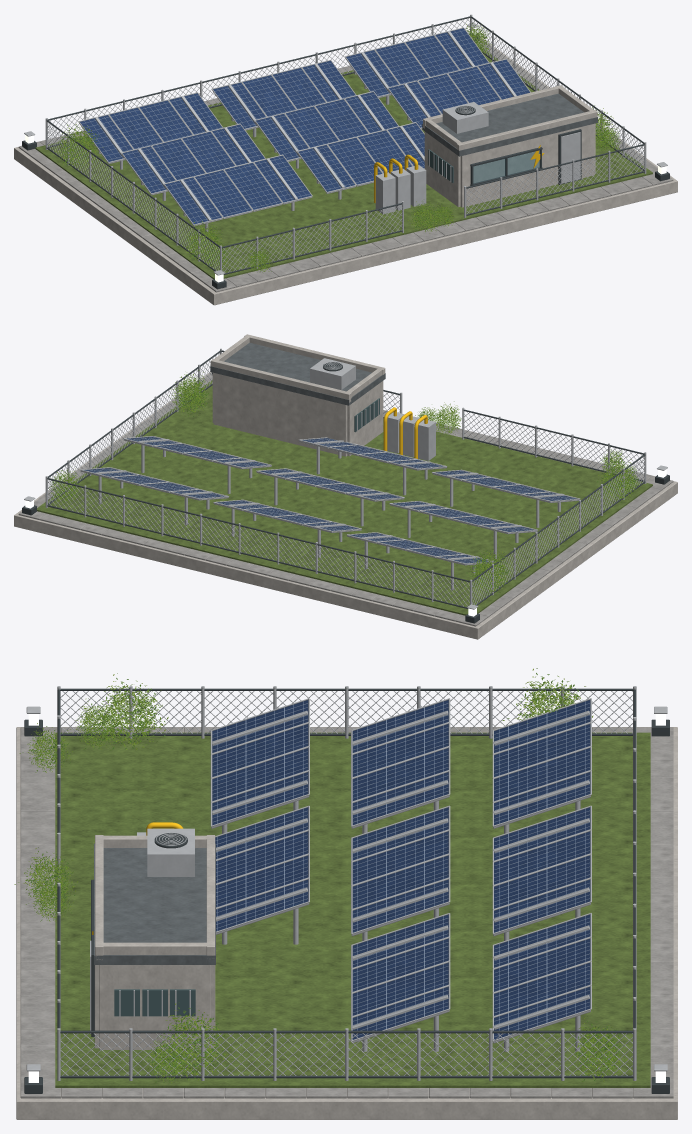
The model's file is planta_solar.fbx.
The picture shows the model from 3 angles, top to bottom: view 1: azimuth 30°, elevation 25°; view 2: azimuth 150°, elevation 25°; view 3: azimuth 270°, elevation 25°; orthographic projection. The views are drawn at different scales.
Visible parts, largest first — view 1: Campo fotovoltaico · Silicio monocristalino, Solar · Hierba de parcela, Cerramiento · Inox cepillado, Campo fotovoltaico · Contactos de plata, Solar · Prefabricado caliza, Inversores · Prefabricado caliza, Solar · Loseta mineral, Campo fotovoltaico · Inox cepillado, Inversores · Inox cepillado, Cerramiento · Perfilería antracita, Inversores · Membrana bituminosa, Inversores · Cristal de control (+5 smaller); view 2: Solar · Hierba de parcela, Cerramiento · Inox cepillado, Inversores · Prefabricado caliza, Solar · Prefabricado caliza, Campo fotovoltaico · Inox cepillado, Solar · Loseta mineral, Campo fotovoltaico · Contactos de plata, Campo fotovoltaico · Silicio monocristalino, Cerramiento · Perfilería antracita, Inversores · Membrana bituminosa, Inversores · Inox cepillado, Follaje.009 (+5 smaller); view 3: Solar · Hierba de parcela, Campo fotovoltaico · Silicio monocristalino, Solar · Loseta mineral, Campo fotovoltaico · Inox cepillado, Campo fotovoltaico · Contactos de plata, Solar · Prefabricado caliza, Cerramiento · Inox cepillado, Inversores · Prefabricado caliza, Inversores · Membrana bituminosa, Cerramiento · Perfilería antracita, Inversores · Inox cepillado, Follaje.001 (+11 smaller).
Part boxes in pixels (x1,y1,x2,y2): Campo fotovoltaico · Silicio monocristalino: (80, 28, 529, 224); Solar · Hierba de parcela: (35, 44, 652, 279); Cerramiento · Inox cepillado: (45, 14, 646, 273); Campo fotovoltaico · Contactos de plata: (82, 30, 527, 222); Solar · Prefabricado caliza: (14, 37, 677, 305); Inversores · Prefabricado caliza: (423, 85, 597, 207); Solar · Loseta mineral: (18, 38, 673, 292); Campo fotovoltaico · Inox cepillado: (78, 27, 530, 231); Inversores · Inox cepillado: (375, 102, 580, 214); Cerramiento · Perfilería antracita: (46, 16, 644, 274); Inversores · Membrana bituminosa: (422, 93, 597, 156); Inversores · Cristal de control: (473, 150, 539, 183); Solar · Hierba de parcela: (37, 380, 652, 615); Cerramiento · Inox cepillado: (45, 348, 646, 607); Inversores · Prefabricado caliza: (210, 334, 385, 456); Solar · Prefabricado caliza: (14, 372, 677, 639); Campo fotovoltaico · Inox cepillado: (80, 436, 580, 590); Solar · Loseta mineral: (18, 372, 673, 626); Campo fotovoltaico · Contactos de plata: (86, 436, 576, 563); Campo fotovoltaico · Silicio monocristalino: (84, 437, 575, 563); Cerramiento · Perfilería antracita: (47, 350, 645, 608); Inversores · Membrana bituminosa: (210, 342, 385, 405); Inversores · Inox cepillado: (310, 358, 435, 460); Follaje.009: (466, 545, 510, 595); Solar · Hierba de parcela: (55, 732, 650, 1087); Campo fotovoltaico · Silicio monocristalino: (212, 700, 590, 1039); Solar · Loseta mineral: (20, 727, 673, 1098); Campo fotovoltaico · Inox cepillado: (210, 698, 591, 1051); Campo fotovoltaico · Contactos de plata: (212, 701, 589, 1037); Solar · Prefabricado caliza: (16, 727, 677, 1119); Cerramiento · Inox cepillado: (57, 686, 636, 1080); Inversores · Prefabricado caliza: (94, 835, 215, 1049); Inversores · Membrana bituminosa: (94, 843, 215, 964); Cerramiento · Perfilería antracita: (57, 688, 635, 1078); Inversores · Inox cepillado: (90, 828, 194, 1034); Follaje.001: (85, 673, 168, 750).
Size of the model in its own units: 15.4 by 2.83 by 11.54.
Materials: 16 (6 with a texture image).
